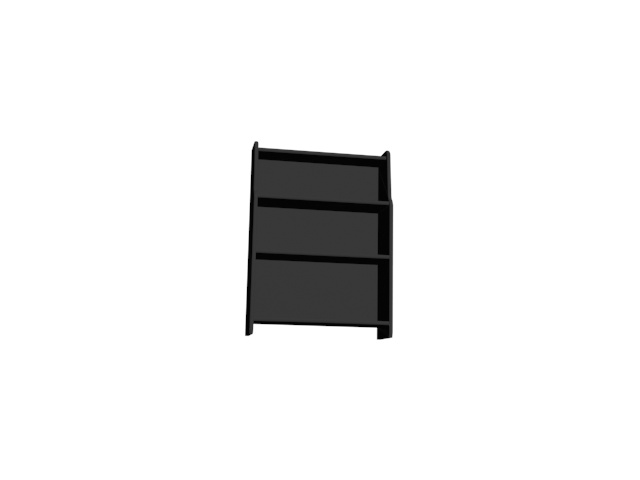bookcase: (241, 137, 400, 344)
